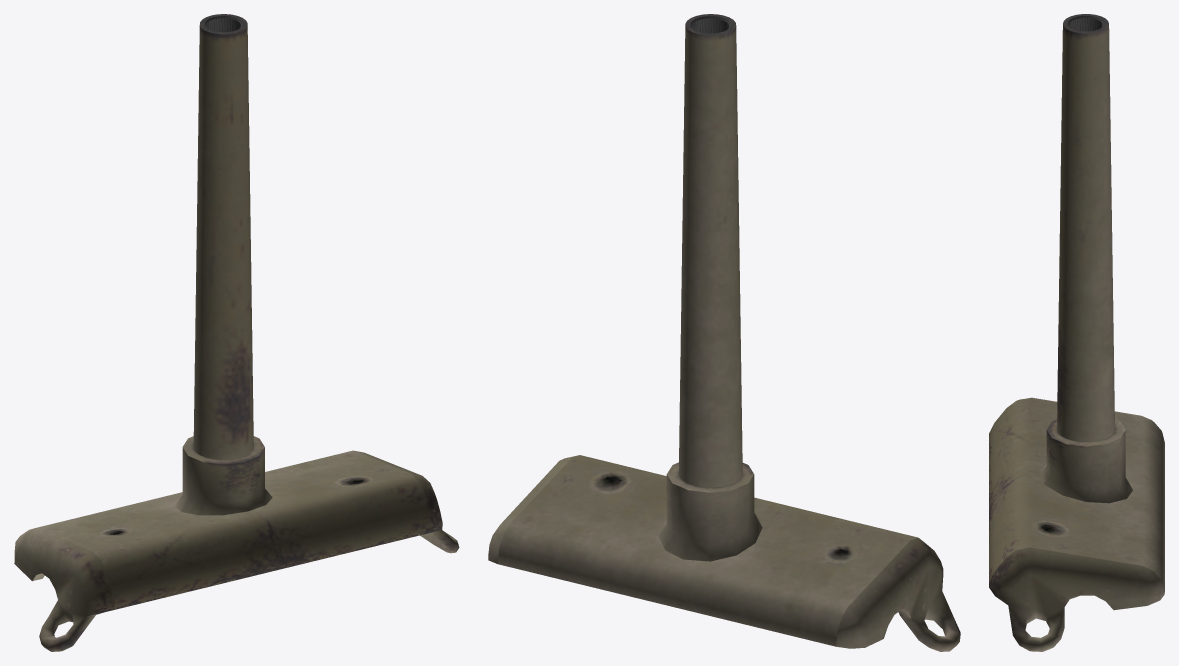
File: Gun_04.glb
3 renders of one model, left to right at view 1: azimuth 30°, elevation 25°; view 2: azimuth 150°, elevation 25°; view 3: azimuth 270°, elevation 25°, orthographic. The views are drawn at different scales.
Visible parts, largest first — view 1: set_0_group_0; view 2: set_0_group_0; view 3: set_0_group_0.
Part boxes in pixels (<box>): set_0_group_0: <box>14,14,459,651</box>; set_0_group_0: <box>488,14,960,651</box>; set_0_group_0: <box>989,14,1164,651</box>.
Bounding box in the file's own units: 1.34 × 1.74 × 0.5169.
Materials: 1 (1 with a texture image).
